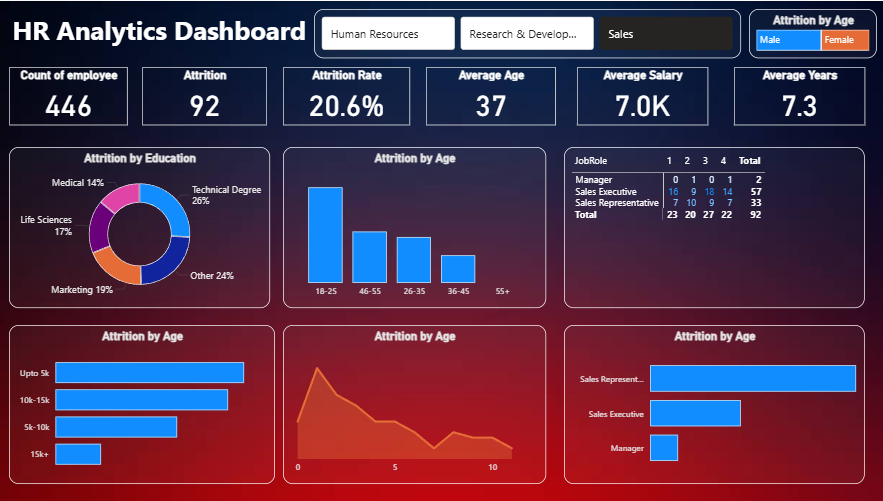

The dashboard page shown, as its layout file describes it:
{"tool":"powerbi","page":{"name":"Page 1","canvas":[1280,720],"ordinal":0},"visuals":[{"type":"card","title":"Count of employee","fields":{"Values":["CountNonNull(HR_Analytics.EmpID)"]},"box":[15.8,95,171.4,83.5],"z":0},{"type":"card","title":"Attrition","fields":{"Values":["Sum(HR_Analytics.attritioncount)"]},"box":[207.4,95,180,83.5],"z":1000},{"type":"card","title":"Attrition Rate","fields":{"Values":["HR_Analytics.Attrition_Rate"]},"box":[410.4,95,182.9,83.5],"z":2000},{"type":"card","title":"Average Age","fields":{"Values":["Avg(HR_Analytics.Age)"]},"box":[616.3,95,187.2,83.5],"z":3000},{"type":"card","title":"Average Salary","fields":{"Values":["Avg(HR_Analytics.MonthlyIncome)"]},"box":[833.8,95,188.6,83.5],"z":4000},{"type":"card","title":"Average Years","fields":{"Values":["Avg(HR_Analytics.YearsAtCompany)"]},"box":[1059.8,95,188.6,83.5],"z":5000},{"type":"donutChart","title":"Attrition by Education","fields":{"Category":["HR_Analytics.EducationField"],"Y":["HR_Analytics.Attrition_Rate"]},"box":[15.8,210.2,375.8,231.8],"z":6000},{"type":"lineStackedColumnComboChart","title":"Attrition by Age","fields":{"Category":["HR_Analytics.AgeGroup"],"Y":["HR_Analytics.Attrition_Rate"]},"box":[410.4,210.2,378.7,231.8],"z":7000},{"type":"pivotTable","fields":{"Rows":["HR_Analytics.JobRole"],"Columns":["HR_Analytics.JobSatisfaction"],"Values":["Sum(HR_Analytics.attritioncount)"]},"box":[815,210.2,433.4,231.8],"z":8000},{"type":"barChart","title":"Attrition by Age","fields":{"Category":["HR_Analytics.SalarySlab"],"Y":["HR_Analytics.Attrition_Rate"]},"box":[15.8,466.6,383,229],"z":10000},{"type":"barChart","title":"Attrition by Age","fields":{"Y":["HR_Analytics.Attrition_Rate"],"Category":["HR_Analytics.JobRole"]},"box":[815,466.6,433.4,229],"z":11000},{"type":"areaChart","title":"Attrition by Age","fields":{"Category":["HR_Analytics.YearsAtCompany"],"Y":["Sum(HR_Analytics.attritioncount)"]},"box":[410.4,466.6,378.7,229],"z":12000},{"type":"treemap","title":"Attrition by Age","fields":{"Group":["HR_Analytics.Gender"],"Values":["Sum(HR_Analytics.attritioncount)"]},"box":[1081.4,11.5,184.3,70.6],"z":13000},{"type":"advancedSlicerVisual","fields":{"Values":["HR_Analytics.Department"]},"box":[455,11.5,614.9,70.6],"z":14000},{"type":"textbox","box":[15.8,11.5,465.1,70.6],"z":15000}]}

Visuals, with their boxes in screenshot pixels (x1, y1, x2, y2), scaled from the page's 1280x720 canvas onto the 883x501 screenshot:
"Count of employee" card: (11, 66, 129, 124)
"Attrition" card: (143, 66, 267, 124)
"Attrition Rate" card: (283, 66, 409, 124)
"Average Age" card: (425, 66, 554, 124)
"Average Salary" card: (575, 66, 705, 124)
"Average Years" card: (731, 66, 861, 124)
"Attrition by Education" donutChart: (11, 146, 270, 308)
"Attrition by Age" lineStackedColumnComboChart: (283, 146, 544, 308)
pivotTable - HR_Analytics.JobRole x HR_Analytics.JobSatisfaction: (562, 146, 861, 308)
"Attrition by Age" barChart: (11, 325, 275, 484)
"Attrition by Age" barChart: (562, 325, 861, 484)
"Attrition by Age" areaChart: (283, 325, 544, 484)
"Attrition by Age" treemap: (746, 8, 873, 57)
advancedSlicerVisual - HR_Analytics.Department: (314, 8, 738, 57)
textbox: (11, 8, 332, 57)
